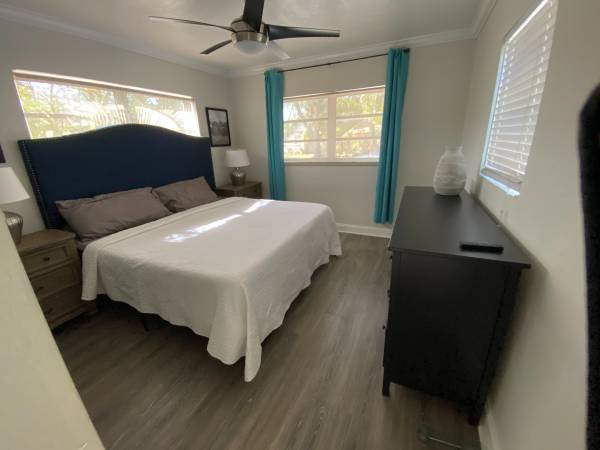bed: (24, 141, 335, 365)
dresser: (383, 183, 528, 429)
night stand: (16, 229, 84, 335)
